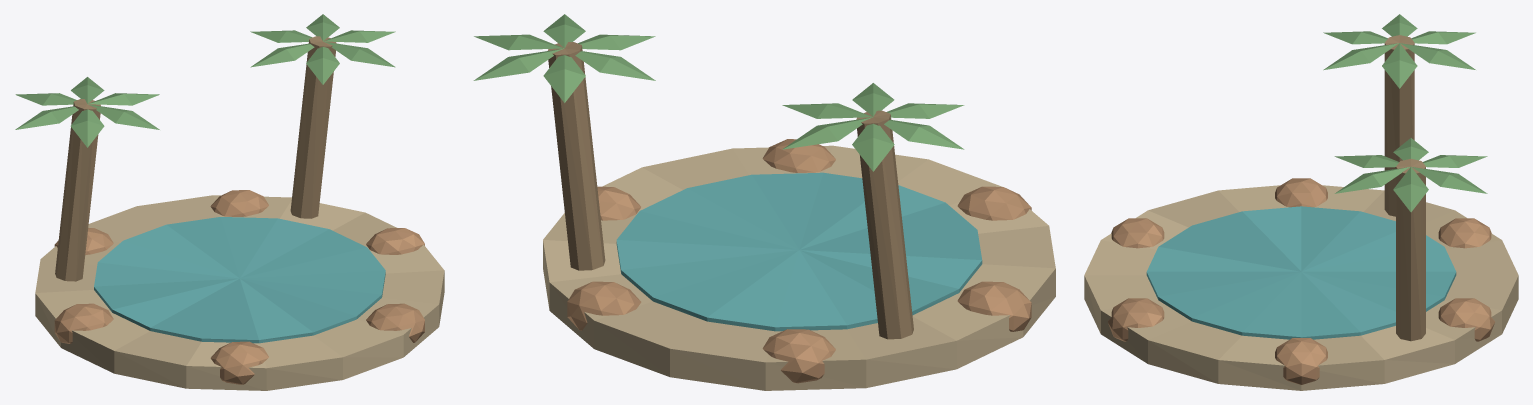
File: small_oasis.glb
The picture shows the model from 3 angles, left to right: view 1: azimuth 30°, elevation 25°; view 2: azimuth 150°, elevation 25°; view 3: azimuth 270°, elevation 25°; orthographic projection. The views are drawn at different scales.
Parts seen in each view (by area): view 1: water, sand_base, palm_trunk_0, palm_trunk_1, edge_stone_4, edge_stone_3, edge_stone_5, edge_stone_0, edge_stone_1, palm_leaf_0_4, palm_leaf_1_4, palm_leaf_0_5 (+10 smaller); view 2: sand_base, water, palm_trunk_0, palm_trunk_1, edge_stone_2, edge_stone_3, edge_stone_1, edge_stone_4, edge_stone_5, palm_leaf_0_2, palm_leaf_1_2, edge_stone_0 (+10 smaller); view 3: sand_base, water, palm_trunk_1, palm_trunk_0, edge_stone_0, edge_stone_1, edge_stone_5, edge_stone_2, edge_stone_4, edge_stone_3, palm_leaf_1_0, palm_leaf_0_0 (+10 smaller).
Part boxes in pixels (<box>): water: <box>94,217,385,343</box>; sand_base: <box>35,195,444,390</box>; palm_trunk_0: <box>55,99,100,281</box>; palm_trunk_1: <box>290,36,336,218</box>; edge_stone_4: <box>210,341,268,384</box>; edge_stone_3: <box>54,303,113,343</box>; edge_stone_5: <box>366,303,424,342</box>; edge_stone_0: <box>366,228,424,254</box>; edge_stone_1: <box>210,190,268,216</box>; palm_leaf_0_4: <box>70,109,104,147</box>; palm_leaf_1_4: <box>306,47,339,84</box>; palm_leaf_0_5: <box>88,104,159,129</box>; sand_base: <box>543,145,1055,390</box>; water: <box>616,172,982,331</box>; palm_trunk_0: <box>856,110,913,339</box>; palm_trunk_1: <box>548,42,605,270</box>; edge_stone_2: <box>762,329,835,383</box>; edge_stone_3: <box>957,281,1031,331</box>; edge_stone_1: <box>567,281,641,330</box>; edge_stone_4: <box>957,186,1031,220</box>; edge_stone_5: <box>762,139,835,172</box>; palm_leaf_0_2: <box>852,123,894,171</box>; palm_leaf_1_2: <box>543,55,585,102</box>; edge_stone_0: <box>597,186,640,220</box>; sand_base: <box>1084,185,1518,390</box>; water: <box>1146,206,1456,339</box>; palm_trunk_1: <box>1396,159,1425,341</box>; palm_trunk_0: <box>1384,35,1414,216</box>; edge_stone_0: <box>1275,338,1327,384</box>; edge_stone_1: <box>1438,298,1494,341</box>; edge_stone_5: <box>1108,298,1164,341</box>; edge_stone_2: <box>1438,218,1491,248</box>; edge_stone_4: <box>1111,218,1164,248</box>; edge_stone_3: <box>1275,178,1327,207</box>; palm_leaf_1_0: <box>1393,167,1428,212</box>; palm_leaf_0_0: <box>1382,43,1417,88</box>.
Bounding box in the file's own units: 2.52 × 1.21 × 2.3.
